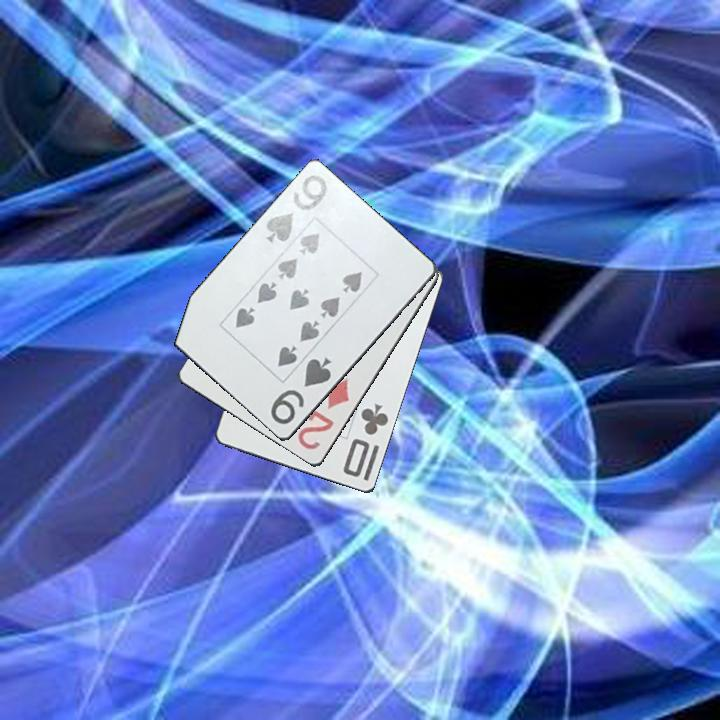2d: (294, 375, 352, 455)
9s: (262, 172, 330, 248), (267, 354, 335, 428)
Tc: (340, 400, 392, 481)
